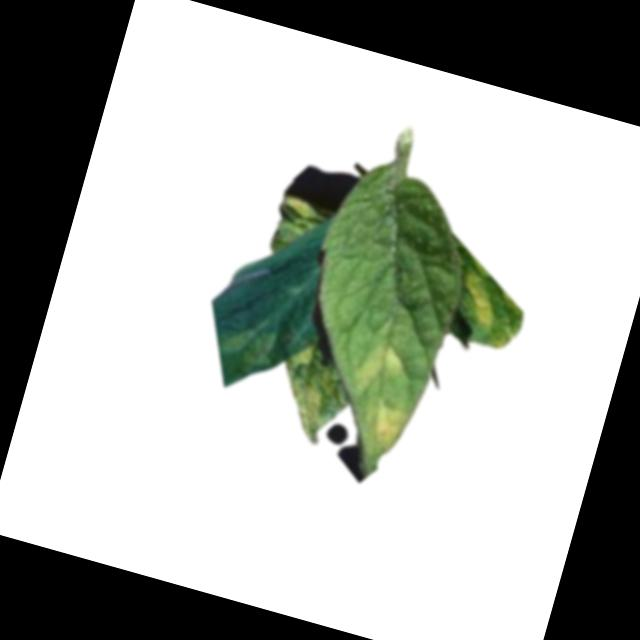Leaf_Mold: (268, 336, 347, 443), (448, 260, 531, 352), (215, 317, 285, 379), (358, 392, 419, 461), (355, 341, 412, 399), (275, 193, 316, 230)
